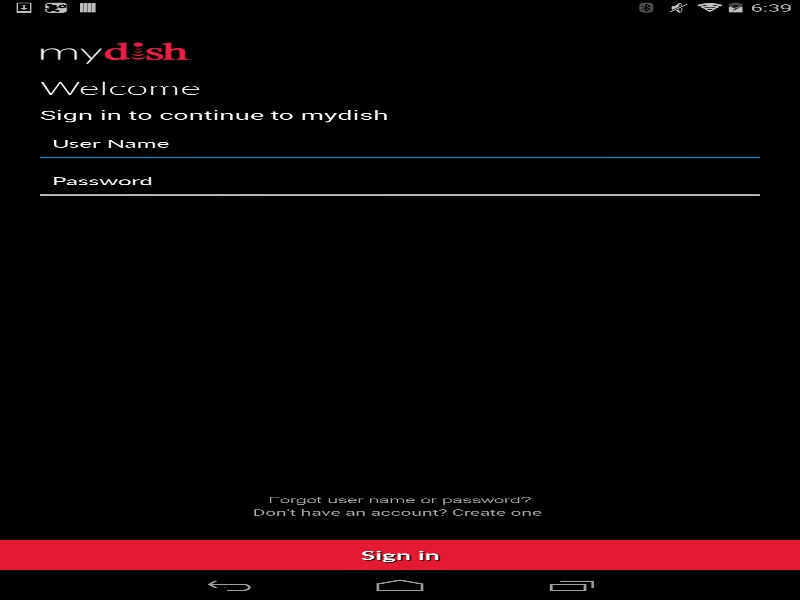Button: (0, 540, 800, 570)
Input: (40, 166, 760, 198), (40, 129, 760, 160)
